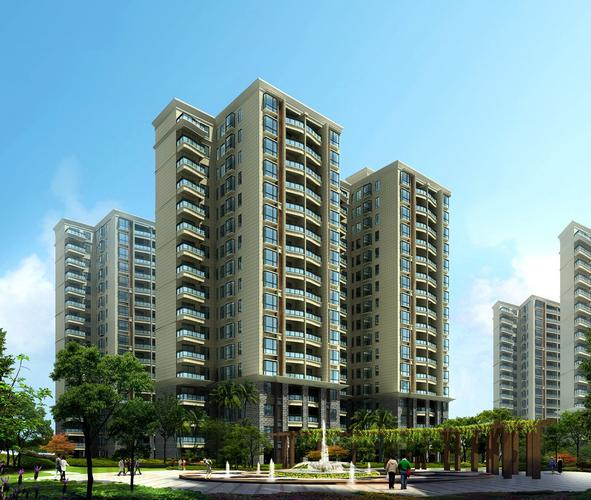buildings: (136, 101, 409, 428), (307, 145, 461, 432), (52, 192, 179, 392), (487, 280, 579, 440)
